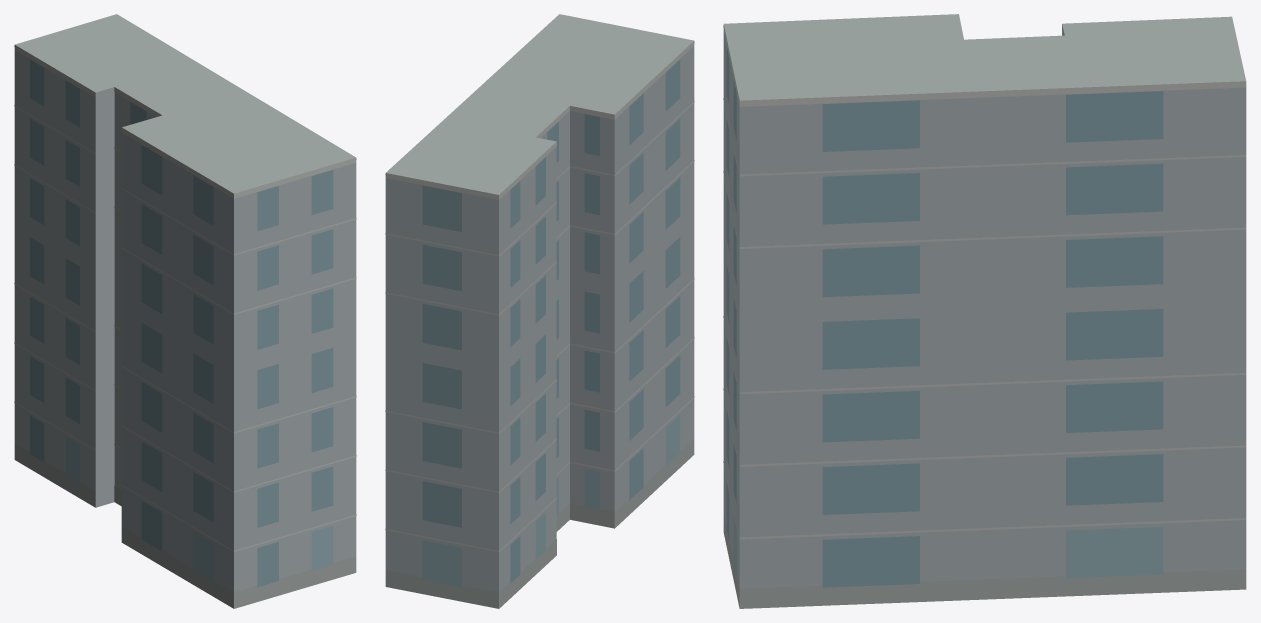
The model's file is survey-upis-32666926.glb.
3 views of the same model, side by side, from view 1: azimuth 30°, elevation 25°; view 2: azimuth 150°, elevation 25°; view 3: azimuth 270°, elevation 25° (orthographic). The views are drawn at different scales.
Visible parts, largest first — view 1: survey-upis-32666926.tmp; view 2: survey-upis-32666926.tmp; view 3: survey-upis-32666926.tmp.
Boxes of the visible parts, x1,y1,x2,y2 form: survey-upis-32666926.tmp: (14, 14, 356, 608); survey-upis-32666926.tmp: (385, 14, 694, 608); survey-upis-32666926.tmp: (723, 14, 1246, 608).
Size of the model in its own units: 7.26 by 19.8 by 18.48.
